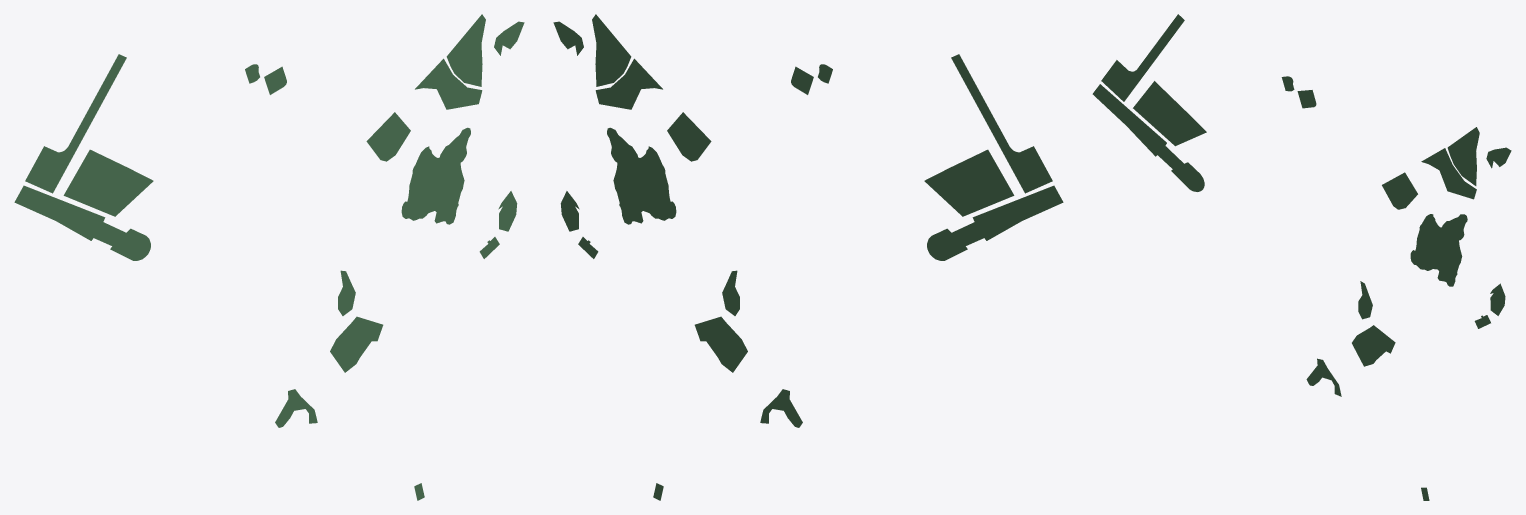
File: green_areas.obj
3 renders of one model, left to right at view 1: azimuth 30°, elevation 25°; view 2: azimuth 150°, elevation 25°; view 3: azimuth 330°, elevation 25°, orthographic. The views are drawn at different scales.
Visible parts, largest first — view 1: shanghai_century_park_green_areas; view 2: shanghai_century_park_green_areas; view 3: shanghai_century_park_green_areas.
Part boxes in pixels (x1=…): shanghai_century_park_green_areas: x1=14, y1=14, x2=524, y2=500; shanghai_century_park_green_areas: x1=553, y1=14, x2=1063, y2=500; shanghai_century_park_green_areas: x1=1092, y1=14, x2=1511, y2=500.
Bounding box in the file's own units: 1276 × 1242 × 0.
